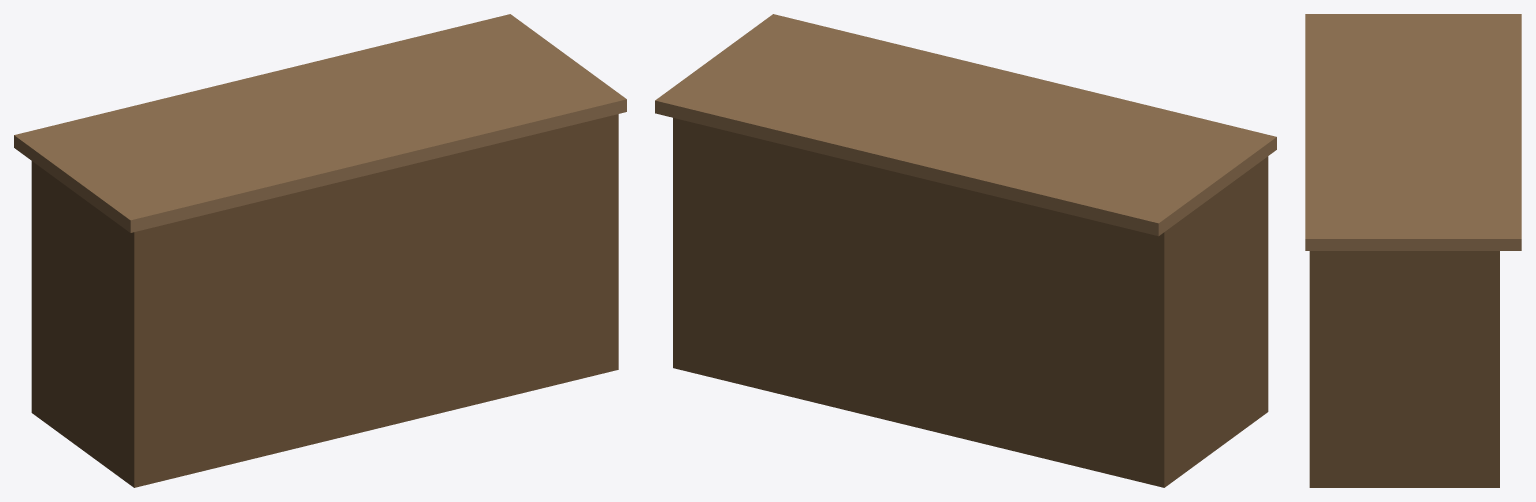
File: counter.glb
The picture shows the model from 3 angles, left to right: view 1: azimuth 30°, elevation 25°; view 2: azimuth 150°, elevation 25°; view 3: azimuth 270°, elevation 25°; orthographic projection. The views are drawn at different scales.
Visible parts, largest first — view 1: counter; view 2: counter; view 3: counter.
Part boxes in pixels (x1,y1,x2,y2): counter: (14, 14, 626, 487); counter: (655, 14, 1276, 487); counter: (1305, 14, 1521, 487).
Size of the model in its own units: 1.87 by 0.9769 by 0.762.
